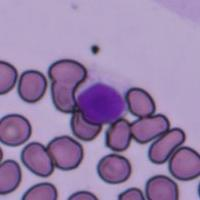L: (76, 68, 128, 124)
